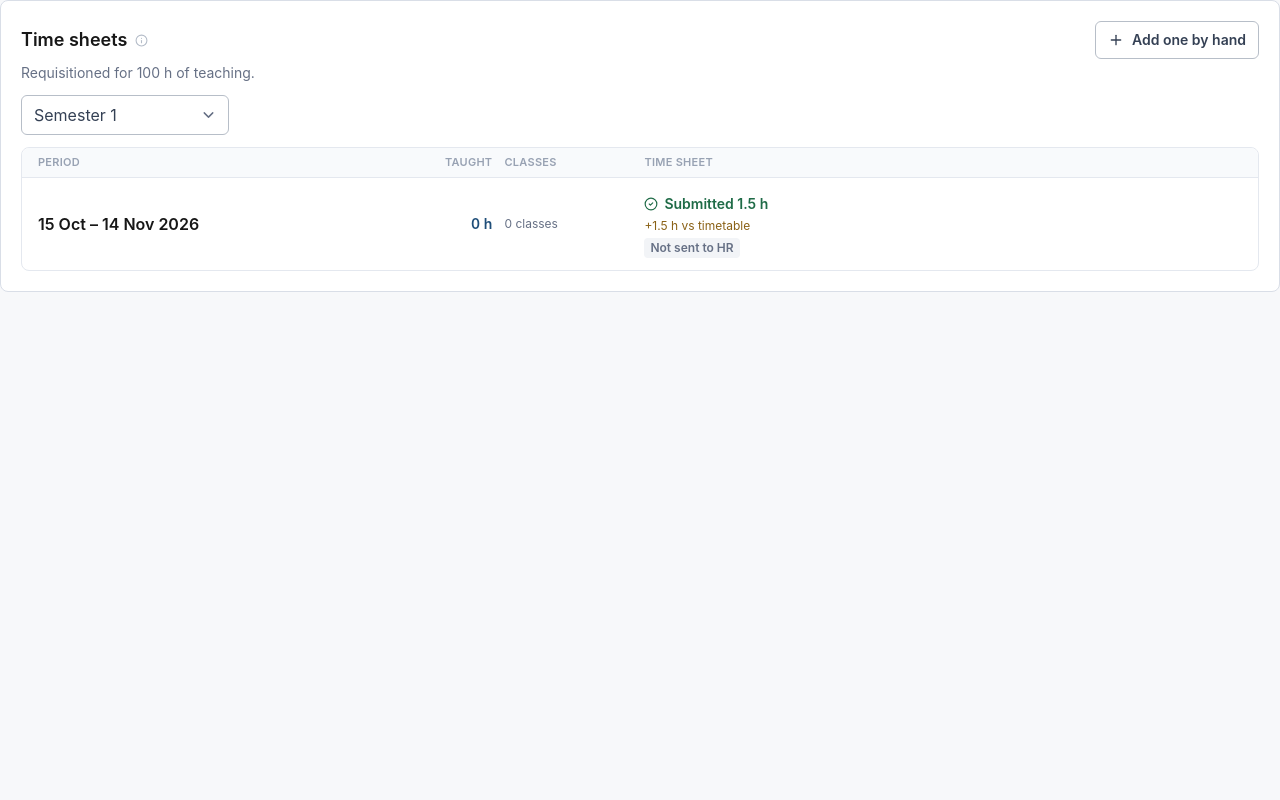
Test: a period the Part-Time Timesheets app has had approved › fills the period rather than leaving it reading as unfiled
The image size is (1280, 800).
# Who approved it is in the pop-up, where there is room to say it.
Click the button "Submitted 1.5 h" at (706, 204), box [644,194,768,214]
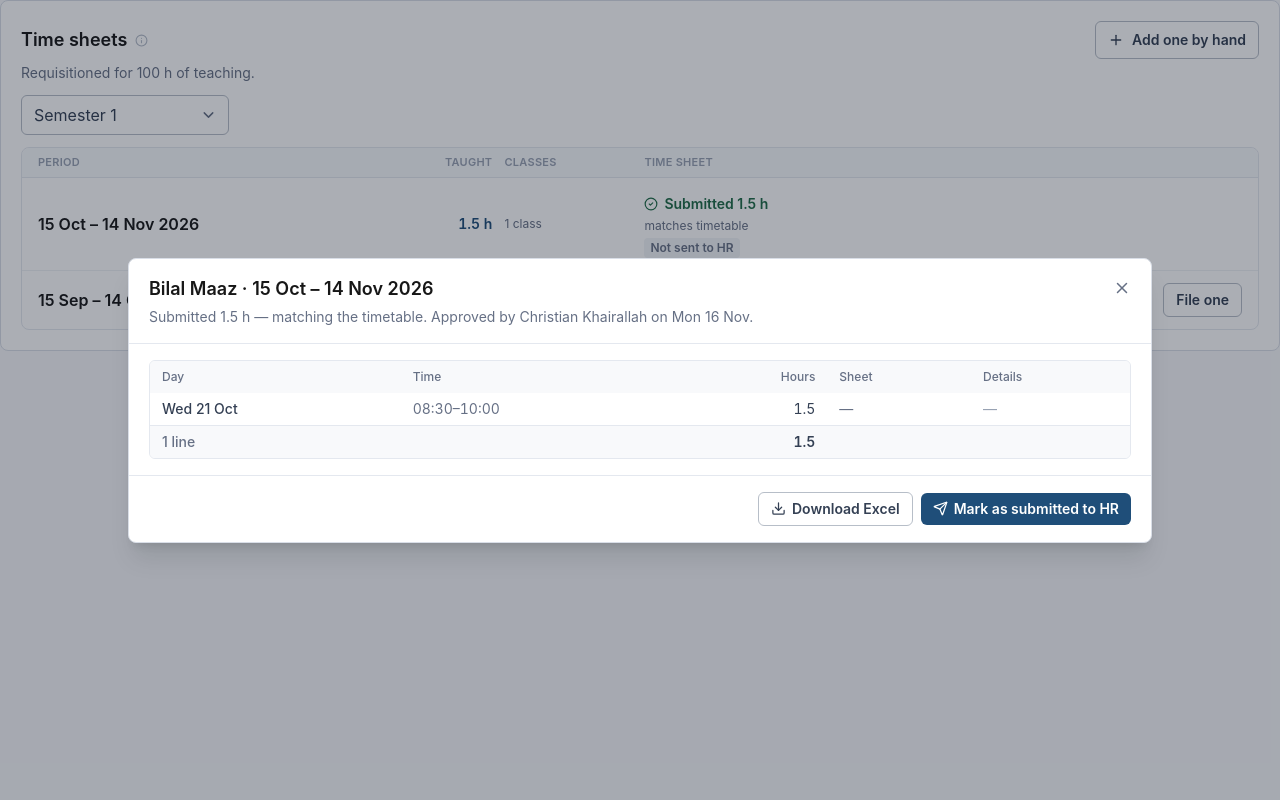
Check: the text "Approved by Christian Khairallah" is shown, box [149,308,753,324]
